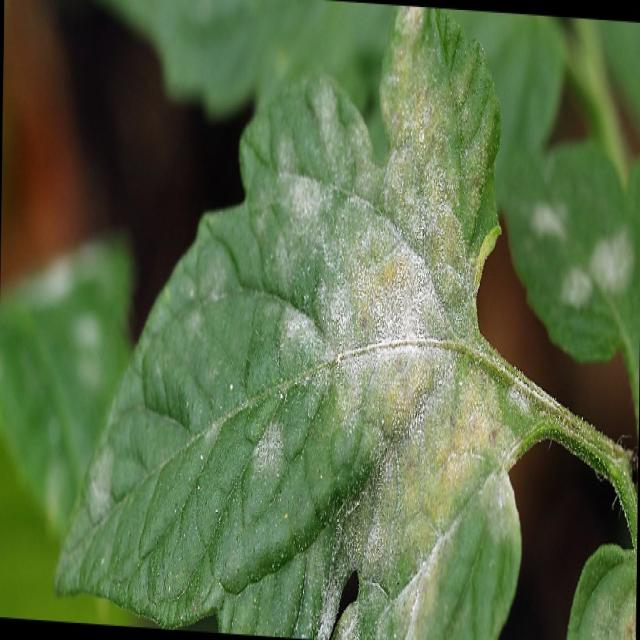Powdery Mildew: (244, 59, 518, 601)
